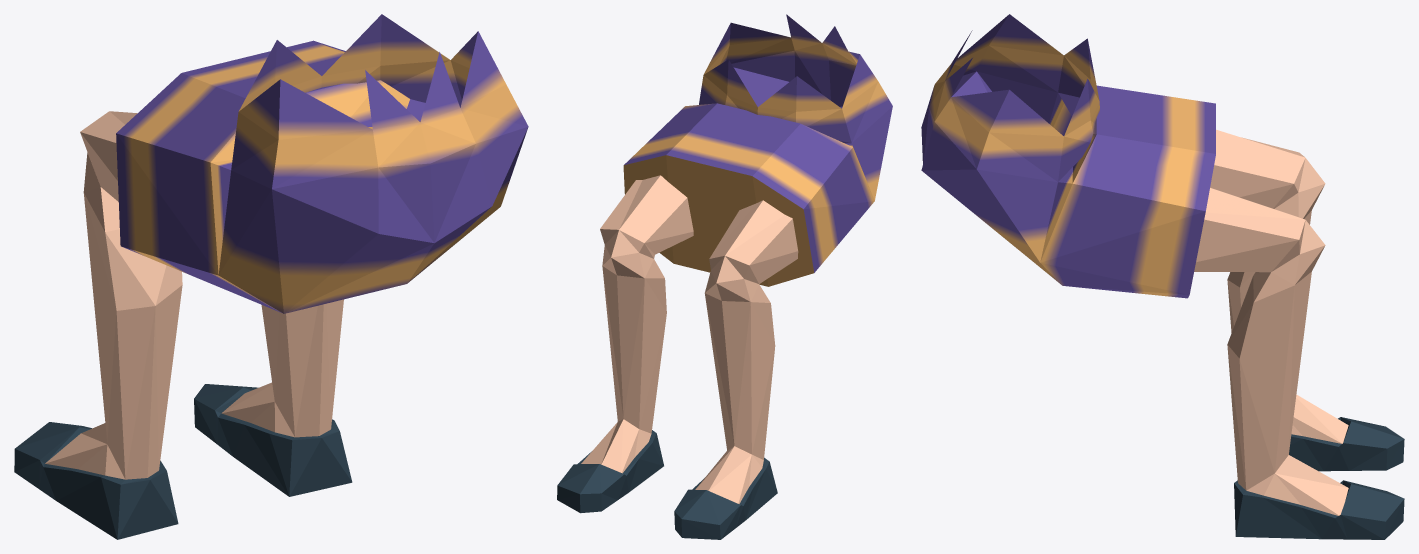
File: Mother_02_Legs_79.obj
3 views of the same model, side by side, from view 1: azimuth 30°, elevation 25°; view 2: azimuth 150°, elevation 25°; view 3: azimuth 270°, elevation 25° (orthographic). The views are drawn at different scales.
Parts seen in each view (by area): view 1: Mother_02_Legs_79; view 2: Mother_02_Legs_79; view 3: Mother_02_Legs_79.
Boxes of the visible parts, x1=… form: Mother_02_Legs_79: x1=14, y1=14, x2=528, y2=539; Mother_02_Legs_79: x1=557, y1=14, x2=892, y2=539; Mother_02_Legs_79: x1=921, y1=14, x2=1404, y2=539.
Size of the model in its own units: 0.3852 by 0.7338 by 0.7153.
1 material, 1 textured.
